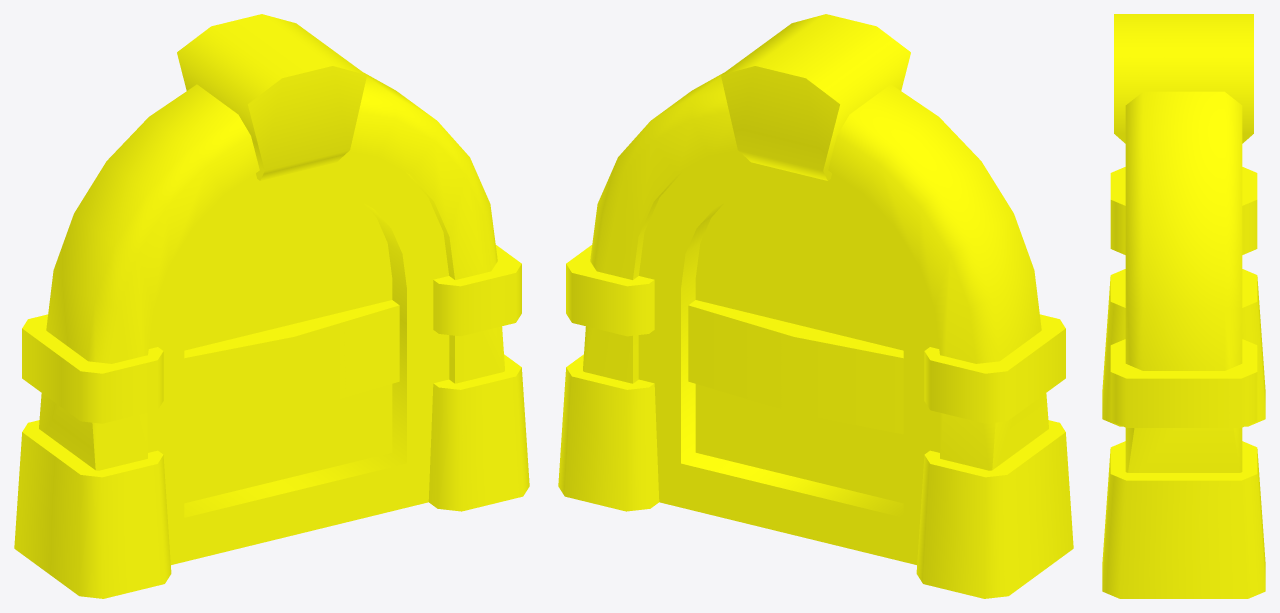
File: 围墙门楼_门_木门.glb
3 renders of one model, left to right at view 1: azimuth 30°, elevation 25°; view 2: azimuth 150°, elevation 25°; view 3: azimuth 270°, elevation 25°, orthographic.
Parts seen in each view (by area): view 1: gate-door, door; view 2: gate-door, door; view 3: gate-door.
Part boxes in pixels (left/top/right/bottom): gate-door: left=14, top=14, right=529, bottom=598; door: left=148, top=151, right=449, bottom=564; gate-door: left=558, top=14, right=1073, bottom=598; door: left=638, top=151, right=939, bottom=564; gate-door: left=1102, top=14, right=1265, bottom=598.
Size of the model in its own units: 4.4 by 4.4 by 1.4.
Materials: 1 (1 with a texture image).
